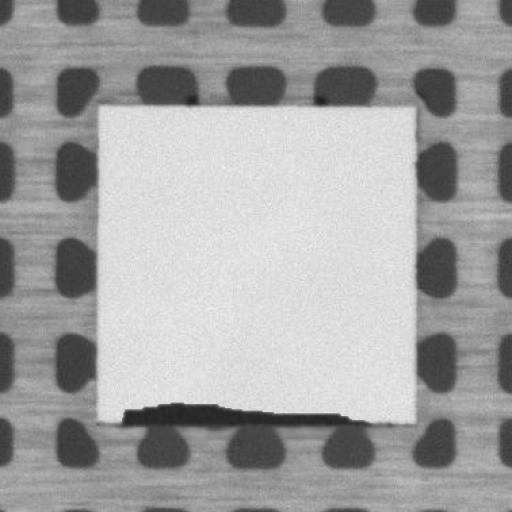DIE_BROKEN: (119, 393, 386, 427)
